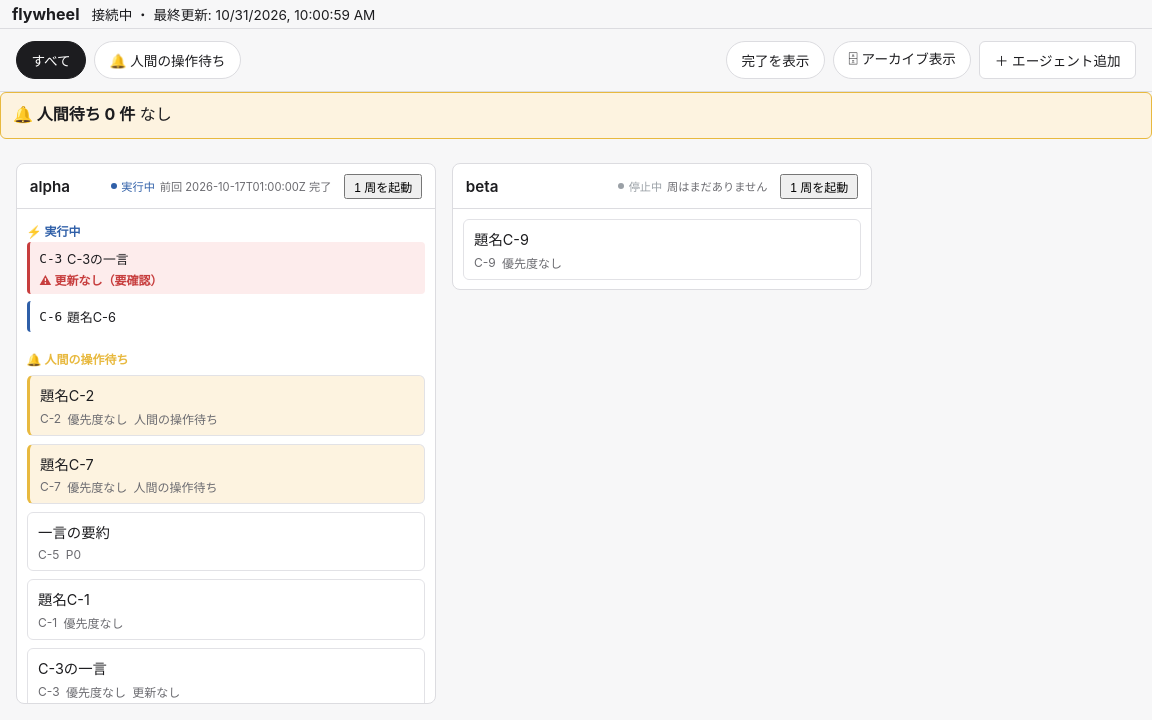
Test: モーダルは <dialog> の showModal で開き、close イベントで閉じる（実ブラウザの経路）
Expected: the text "題名C-1" is shown, [38,591,90,608]
What coordinates should you click on to do the following:
click the text "題名C-2"
I would click on:
 (67, 395)
Its box is [40,387,94,404].
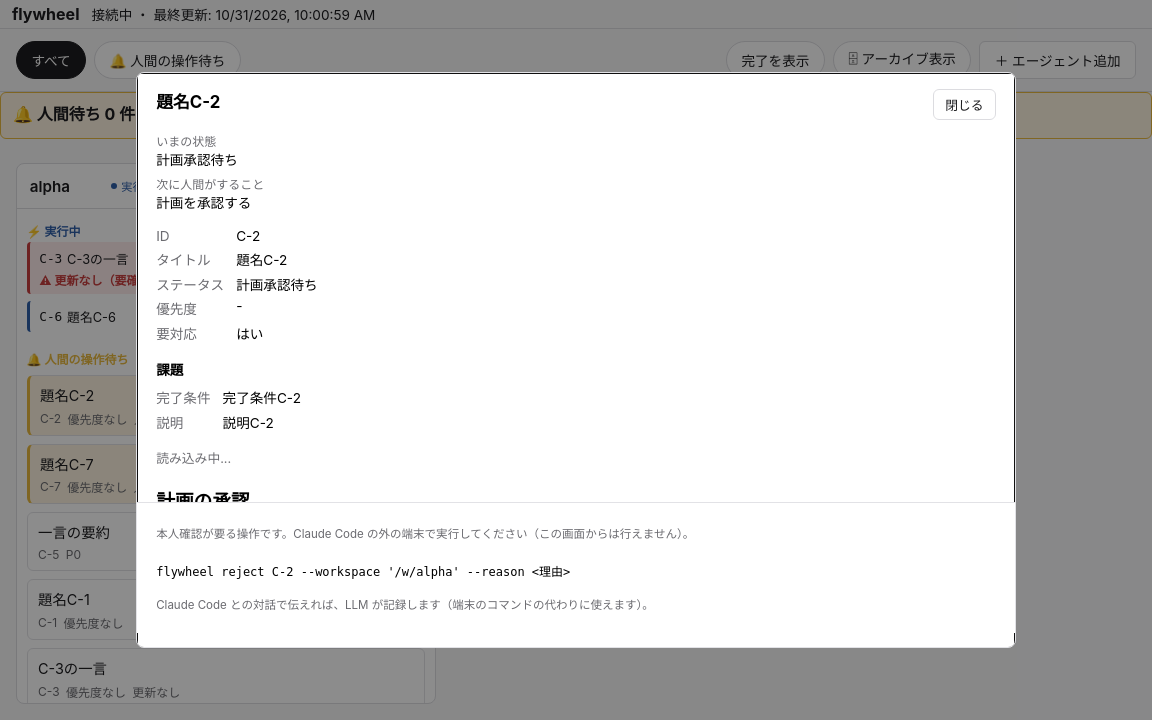
What coordinates should you click on to do the following:
click the button "閉じる"
I would click on:
 (964, 104)
Its box is [933,89,996,120].
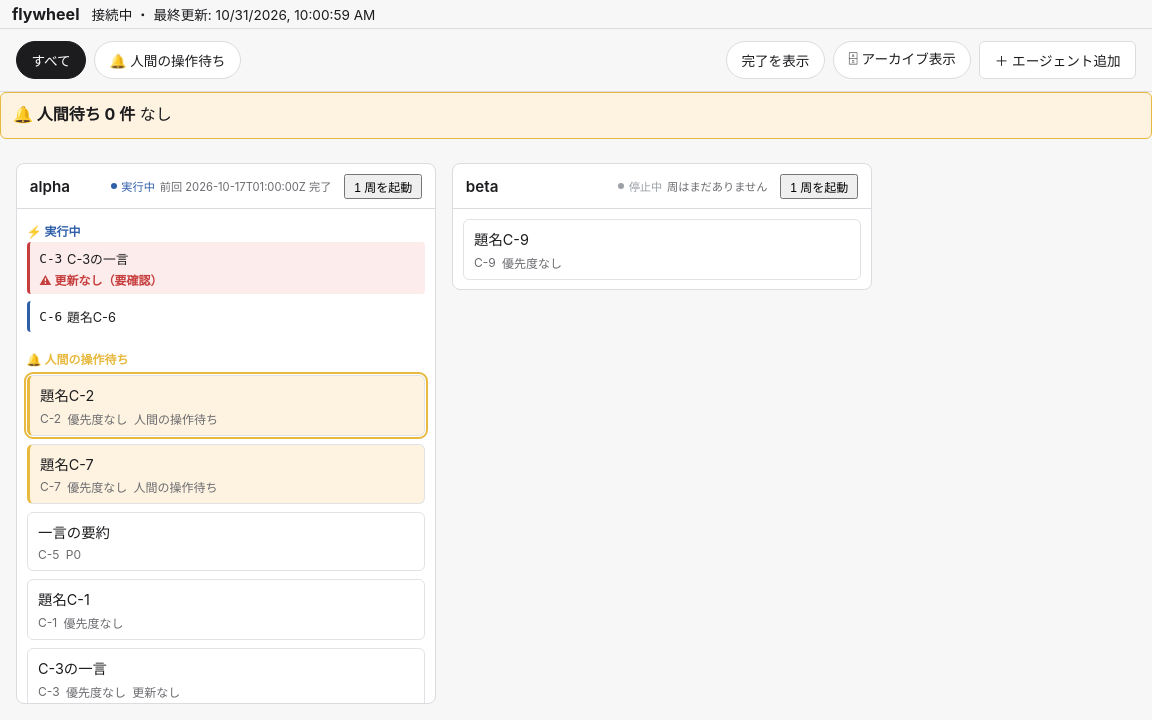
Expected: the element with test id "card-detail-content" is gone
